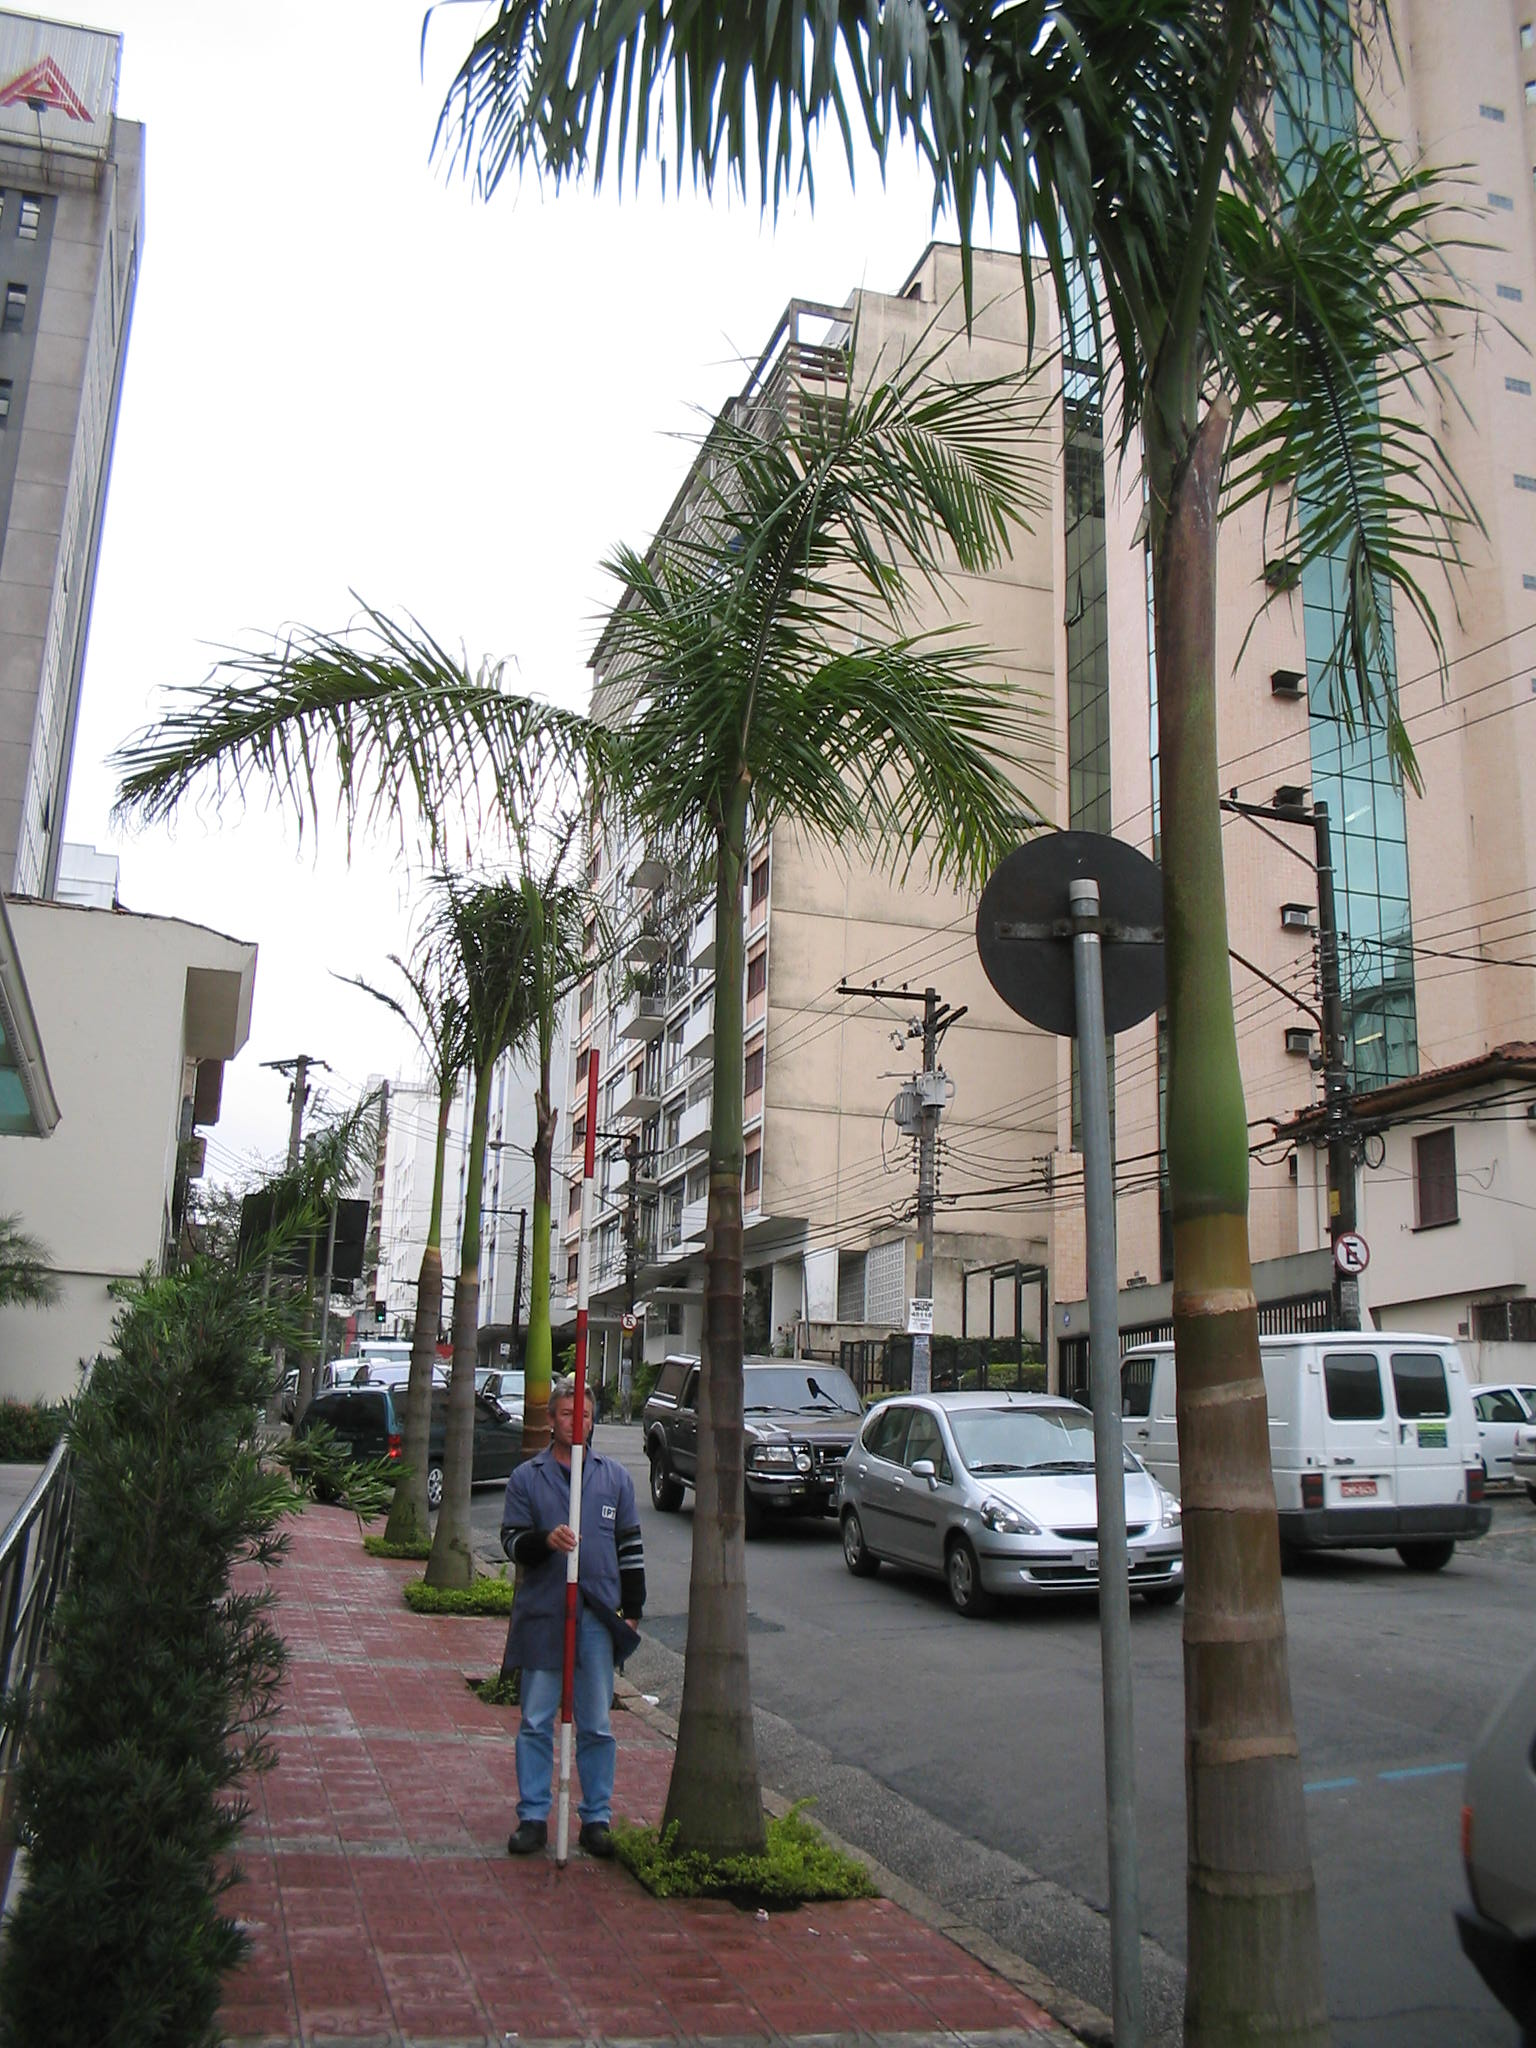crown: (123, 337, 1066, 1061)
stem: (653, 1042, 824, 1858)
stick: (544, 1048, 623, 1864)
tree: (110, 337, 1073, 1861)
